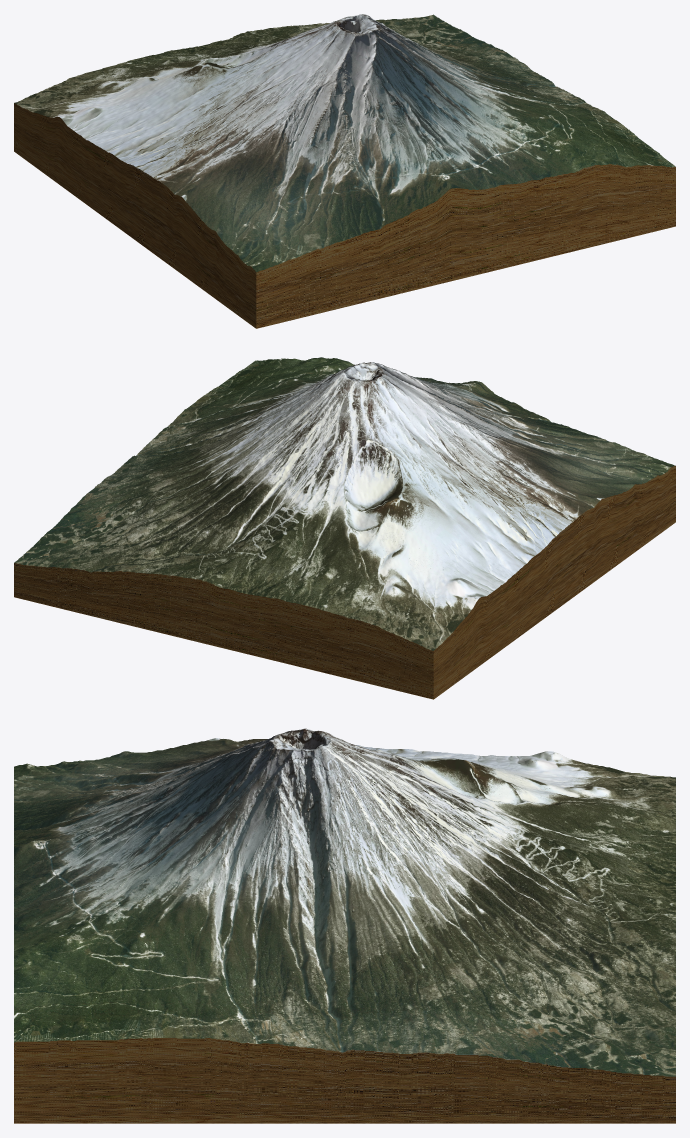
Rendered from fuji_san__mt__fuji__fujiyama__mountain_japan.glb.
3 views of the same model, one above another, from view 1: azimuth 30°, elevation 25°; view 2: azimuth 150°, elevation 25°; view 3: azimuth 270°, elevation 25° (orthographic). The views are drawn at different scales.
Parts seen in each view (by area): view 1: ground_merged_merged; view 2: ground_merged_merged; view 3: ground_merged_merged.
Part boxes in pixels (left/top/right/bottom): ground_merged_merged: left=14, top=14, right=675, bottom=328; ground_merged_merged: left=14, top=357, right=675, bottom=699; ground_merged_merged: left=14, top=728, right=675, bottom=1123.
Size of the model in its own units: 2.56 by 1.04 by 2.56.
Materials: 2 (2 with a texture image).
